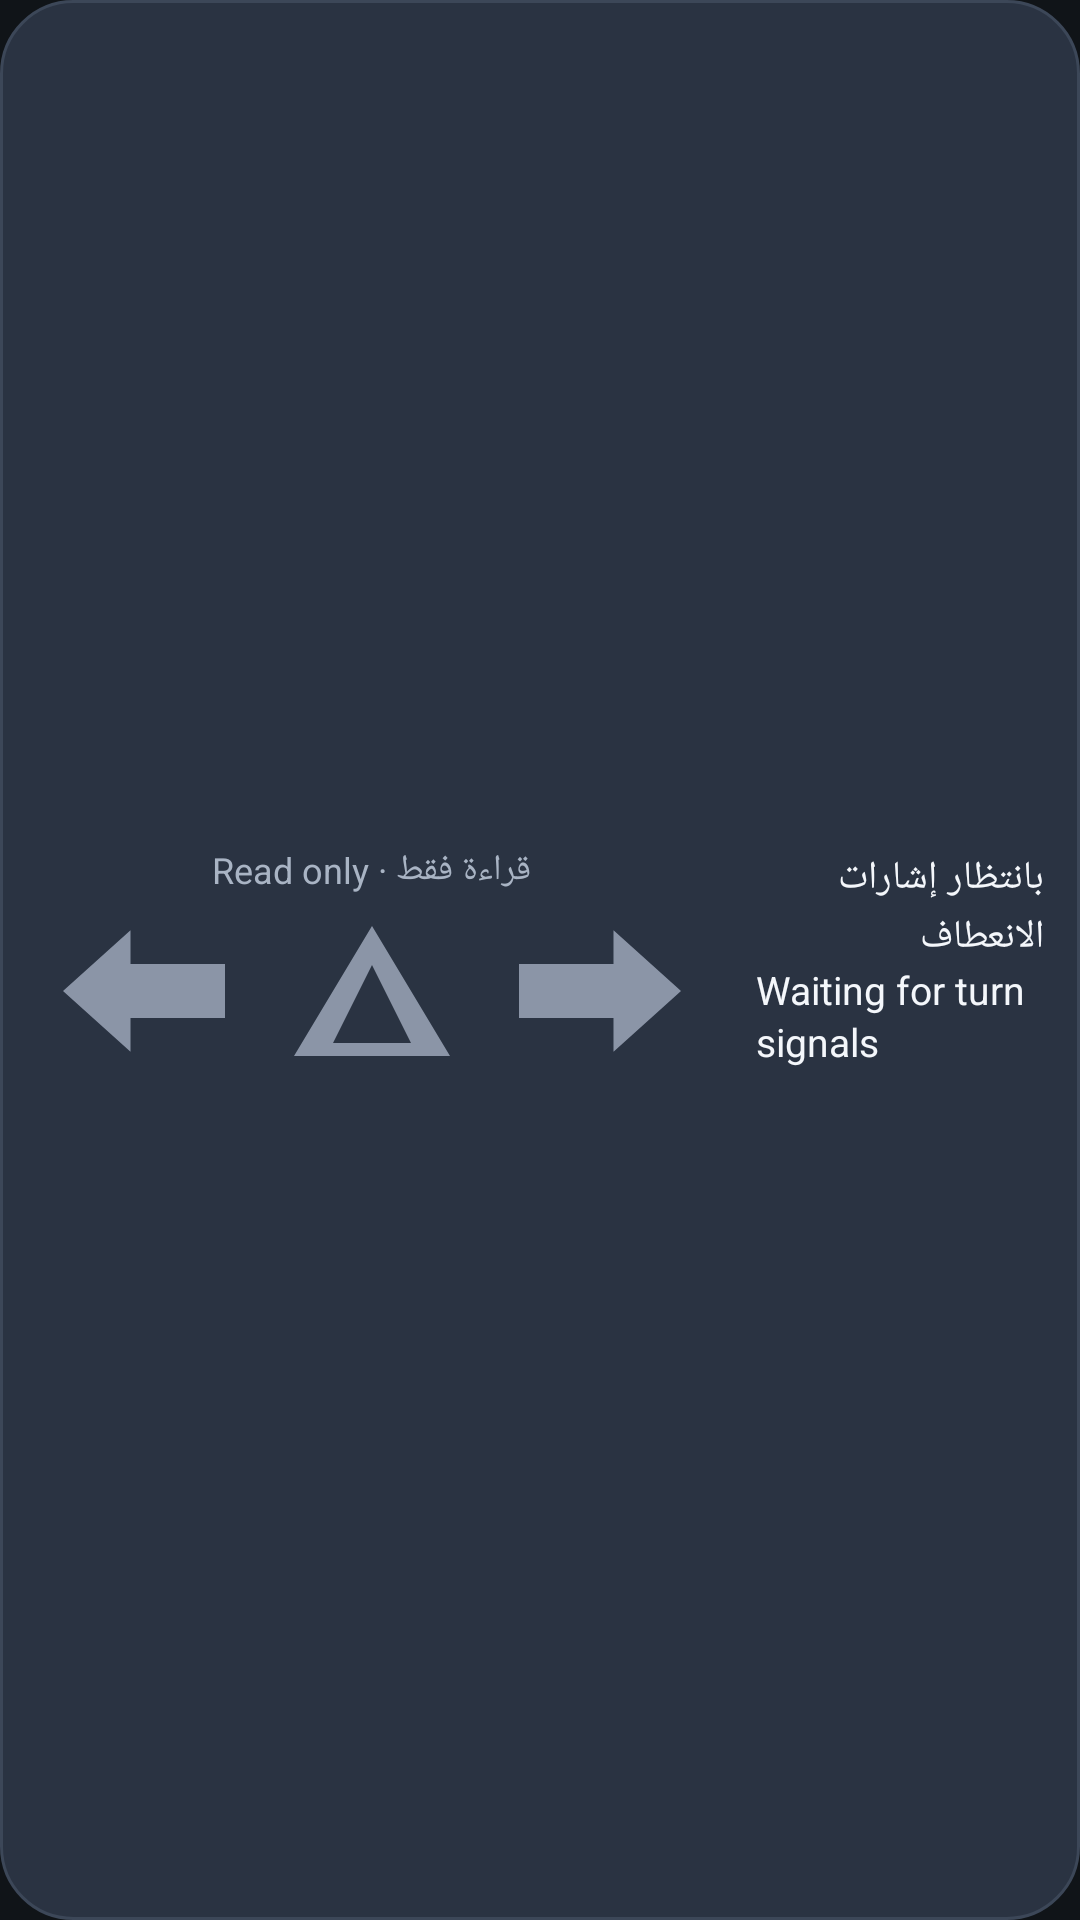

Locate icon controls on the screen. Image size 1080 × 1920, boxes as [x1, y1, x2, y2].
Hazard: [294, 926, 450, 1056]
Left turn: [63, 930, 225, 1052]
Right turn: [519, 930, 681, 1052]
